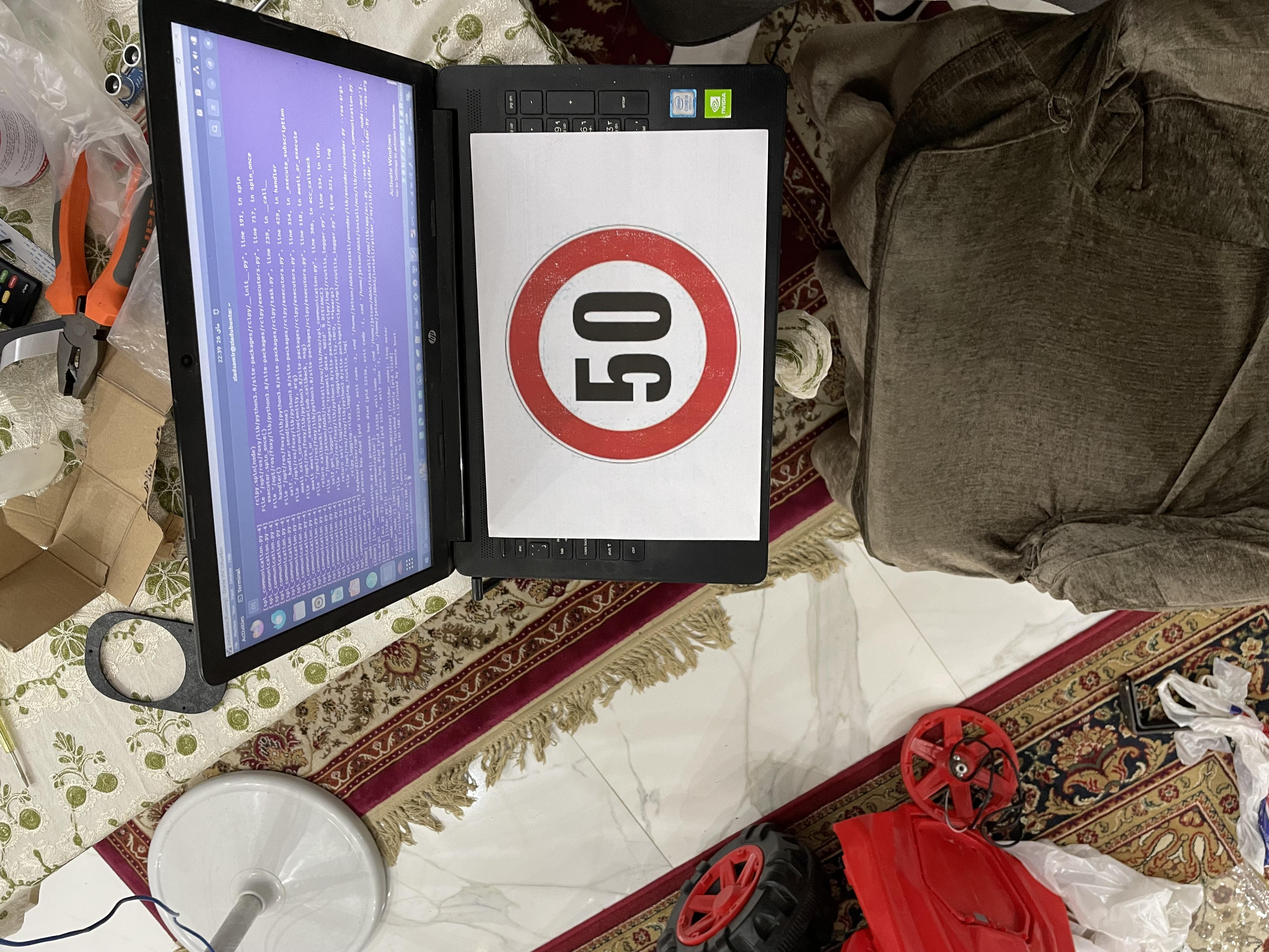50-Speed: (647, 378, 972, 558)
